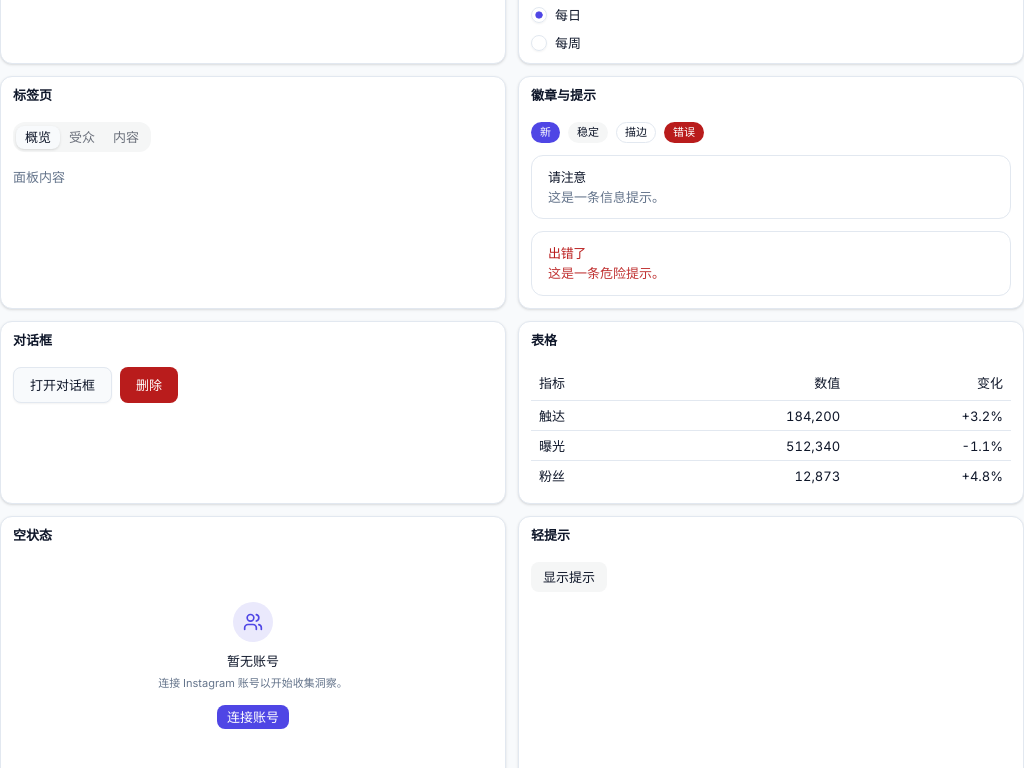
Test: Gallery (zh-CN) › renders every group, a destructive button, and opens the dialog
(page scrolled)
Expected: the text "标签页" is shown, [13,87,52,103]
Expected: the text "徽章与提示" is shown, [531,87,596,103]
Click the button "打开对话框" at (62, 385), box [13,367,112,403]
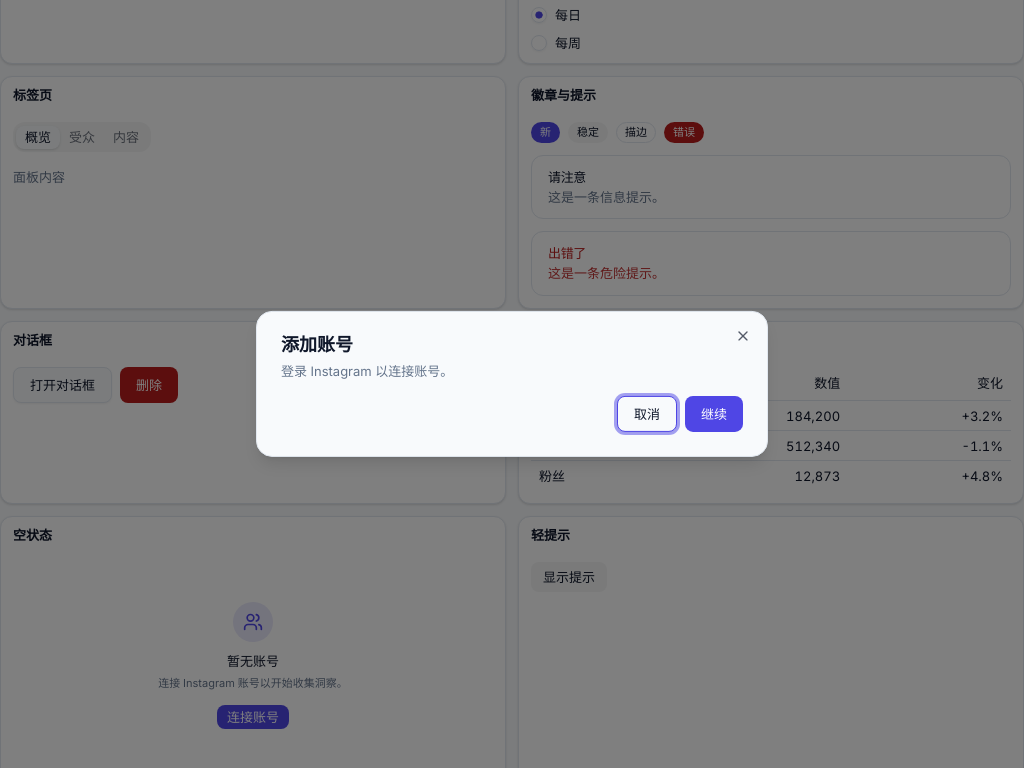
Expected: the dialog "添加账号" is shown, [256,311,768,457]
